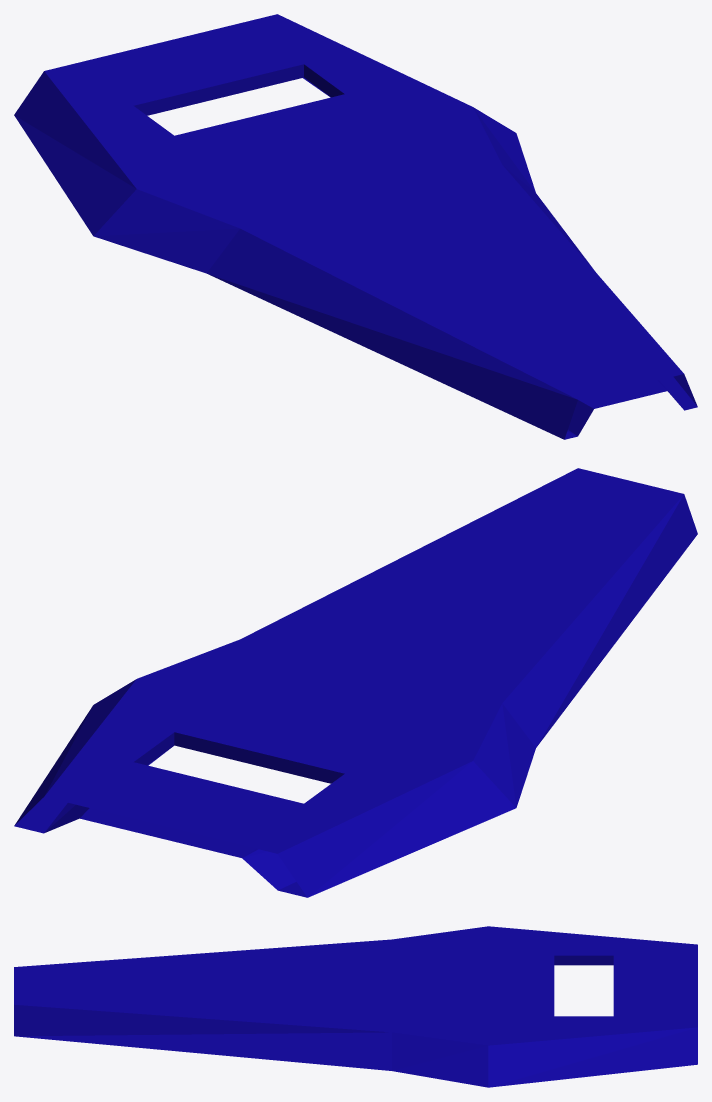
The model's file is Shield.FBX.
3 renders of one model, top to bottom at view 1: azimuth 30°, elevation 25°; view 2: azimuth 150°, elevation 25°; view 3: azimuth 270°, elevation 25°, orthographic. The views are drawn at different scales.
Parts seen in each view (by area): view 1: Plane001; view 2: Plane001; view 3: Plane001.
Part boxes in pixels (<box>): Plane001: <box>14,14,697,439</box>; Plane001: <box>14,468,697,897</box>; Plane001: <box>14,926,697,1087</box>.
Bounding box in the file's own units: 75.49 × 6.25 × 145.
